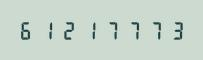one: (38, 20, 58, 40), (80, 20, 100, 40)
seven: (101, 20, 121, 40), (122, 20, 142, 40), (143, 20, 163, 40)
six: (17, 20, 37, 40)
three: (164, 20, 184, 40)
two: (59, 20, 79, 40)
